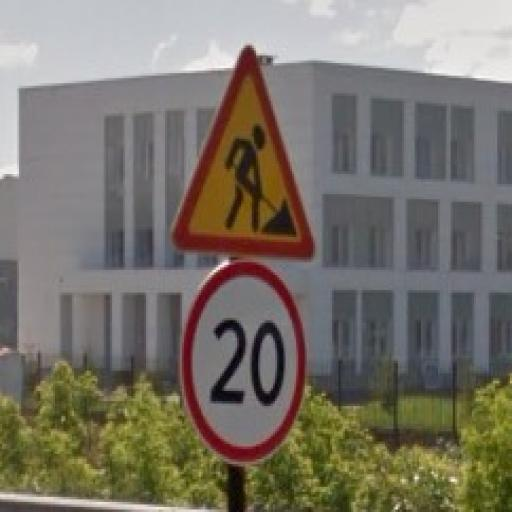traffic_sign: (173, 44, 319, 263), (181, 261, 308, 465)
